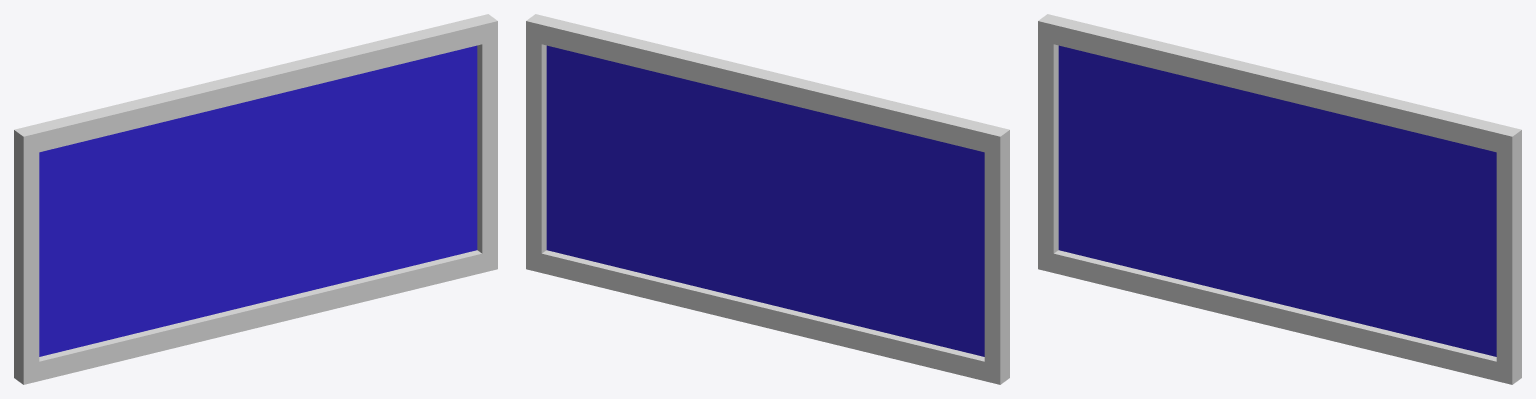
Rendered from PaintingSimple_Horizontal.fbx.
3 renders of one model, left to right at view 1: azimuth 30°, elevation 25°; view 2: azimuth 150°, elevation 25°; view 3: azimuth 330°, elevation 25°, orthographic.
Visible parts, largest first — view 1: Painting_Simple_Horizontal; view 2: Painting_Simple_Horizontal; view 3: Painting_Simple_Horizontal.
Boxes of the visible parts, x1,y1,x2,y2 form: Painting_Simple_Horizontal: (14, 14, 497, 384); Painting_Simple_Horizontal: (526, 14, 1009, 384); Painting_Simple_Horizontal: (1038, 14, 1521, 384).
Size of the model in its own units: 400 by 200 by 14.
